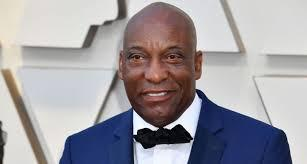normalEye: (126, 42, 186, 66)
normalMouth: (134, 86, 183, 104)
